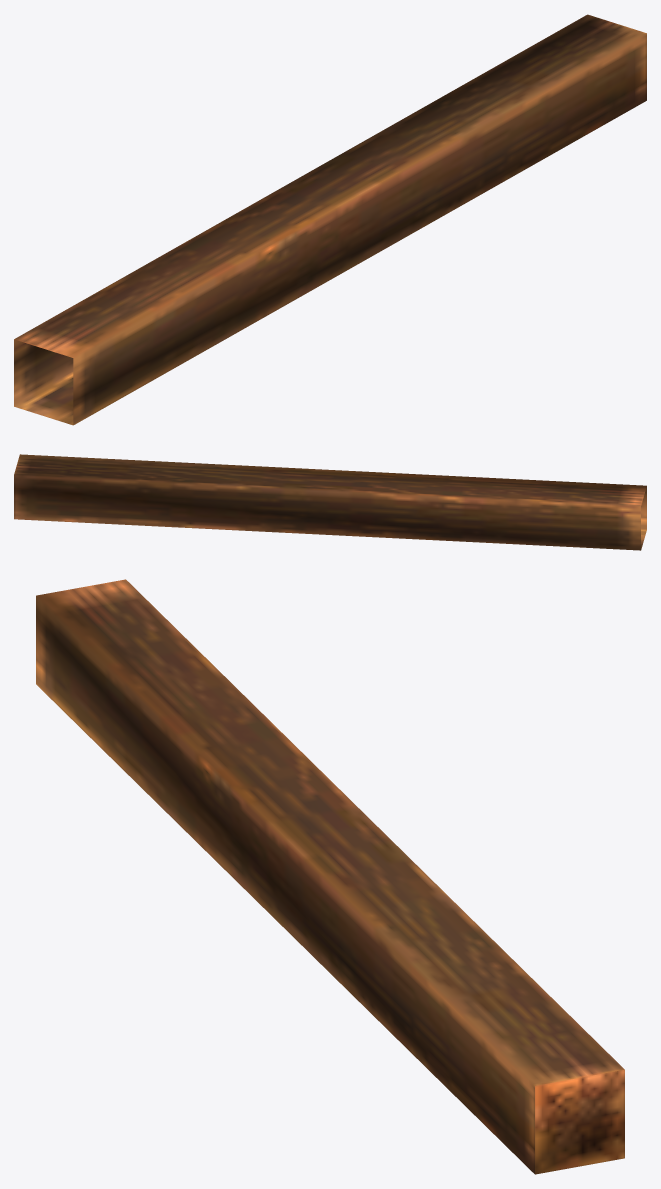
File: SWORDLIGHT20_JAILBRACE46.fbx
3 views of the same model, one above another, from view 1: azimuth 30°, elevation 25°; view 2: azimuth 150°, elevation 25°; view 3: azimuth 270°, elevation 25° (orthographic). The views are drawn at different scales.
Parts seen in each view (by area): view 1: SWORDLIGHT20_JAILBRACE46; view 2: SWORDLIGHT20_JAILBRACE46; view 3: SWORDLIGHT20_JAILBRACE46.
Part boxes in pixels (<box>): SWORDLIGHT20_JAILBRACE46: <box>14,14,646,425</box>; SWORDLIGHT20_JAILBRACE46: <box>14,454,646,550</box>; SWORDLIGHT20_JAILBRACE46: <box>36,579,624,1174</box>.
Bounding box in the file's own units: 48997 × 4000 × 24077.
1 material, 1 textured.
